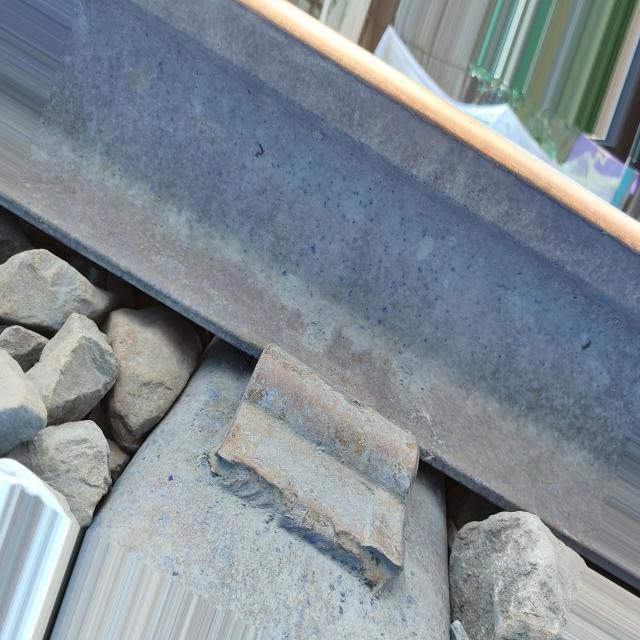Missing Fastener: (208, 344, 420, 591)
